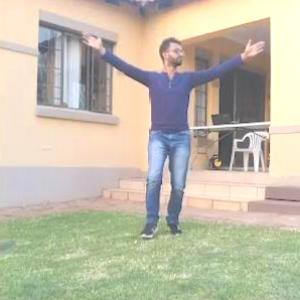takeoff: (76, 23, 262, 226)
